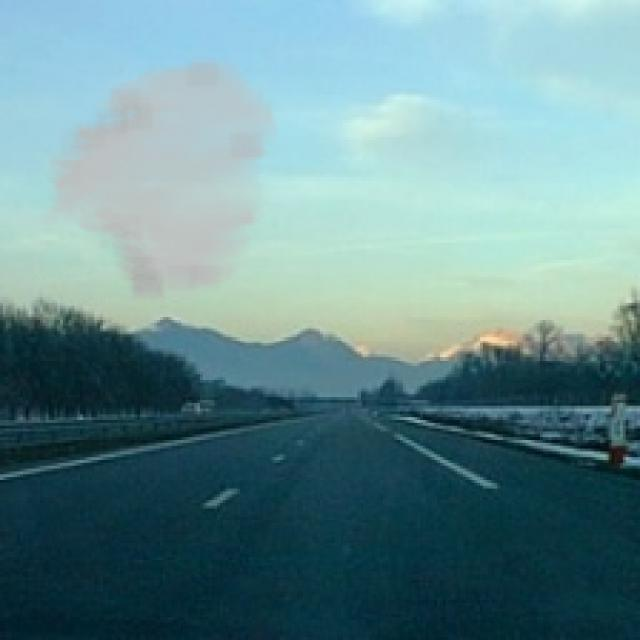Smoke: (37, 54, 280, 306)
